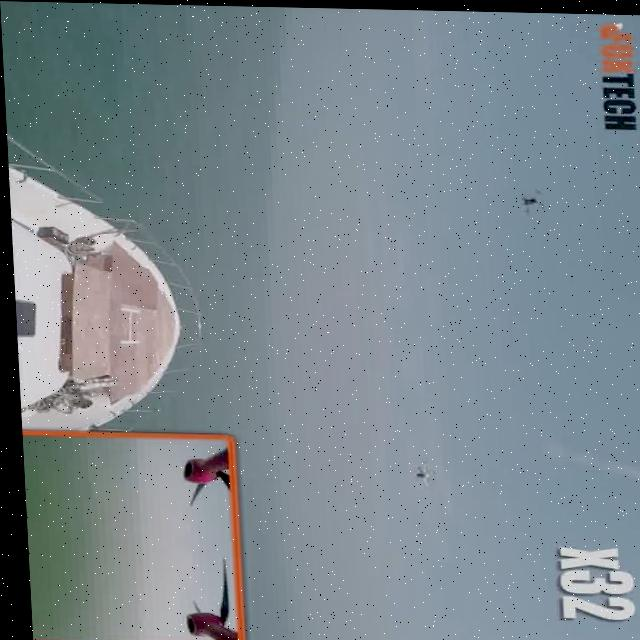drone: (509, 180, 555, 223), (398, 450, 438, 488)
